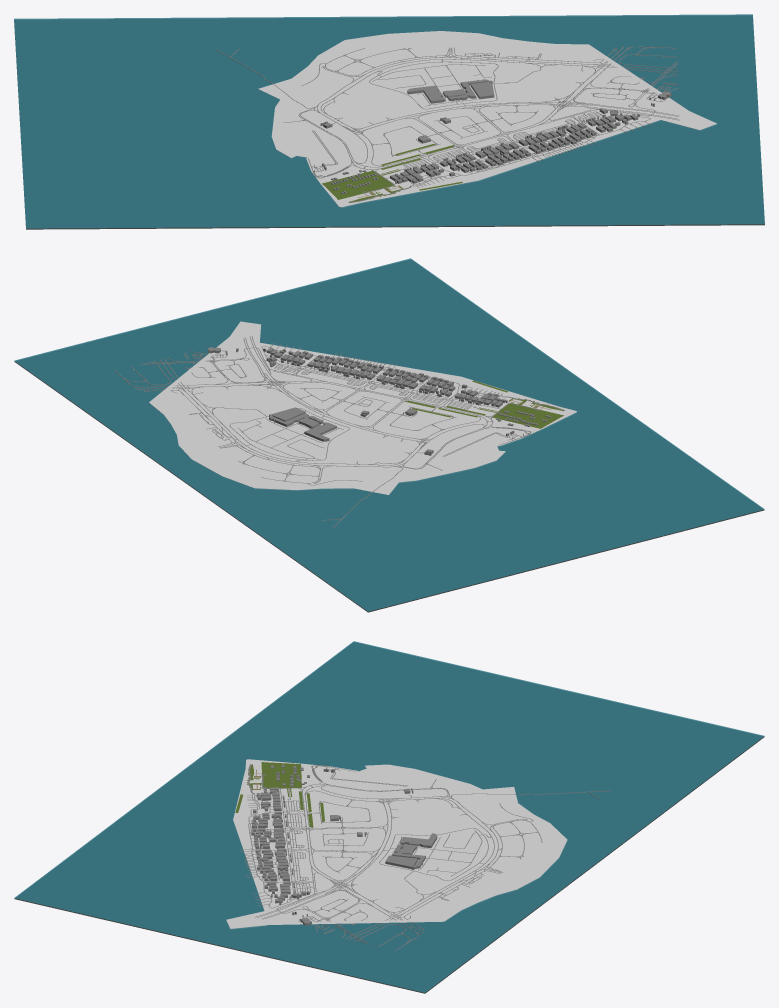
The model's file is Azura_ground.glb.
3 renders of one model, top to bottom at view 1: azimuth 30°, elevation 25°; view 2: azimuth 150°, elevation 25°; view 3: azimuth 270°, elevation 25°, orthographic. The views are drawn at different scales.
Parts seen in each view (by area): view 1: water, water.001, land, road, Build, tree; view 2: water, water.001, land, road, Build, tree; view 3: water, water.001, land, road, Build, tree.
Part boxes in pixels (<box>): water: <box>14,14,764,228</box>; water.001: <box>14,16,764,229</box>; land: <box>258,31,716,207</box>; road: <box>215,46,679,203</box>; Build: <box>314,79,671,193</box>; tree: <box>322,144,462,202</box>; water: <box>14,258,764,611</box>; water.001: <box>14,260,764,612</box>; land: <box>149,321,576,494</box>; road: <box>115,336,565,528</box>; Build: <box>207,347,551,455</box>; tree: <box>405,380,563,428</box>; water: <box>14,641,764,992</box>; water.001: <box>14,643,764,993</box>; land: <box>226,759,567,929</box>; road: <box>239,764,610,950</box>; Build: <box>251,764,437,925</box>; tree: <box>235,762,324,827</box>.
Bounding box in the file's own units: 6423 × 40.07 × 5795.
Materials: 11 (1 with a texture image).
